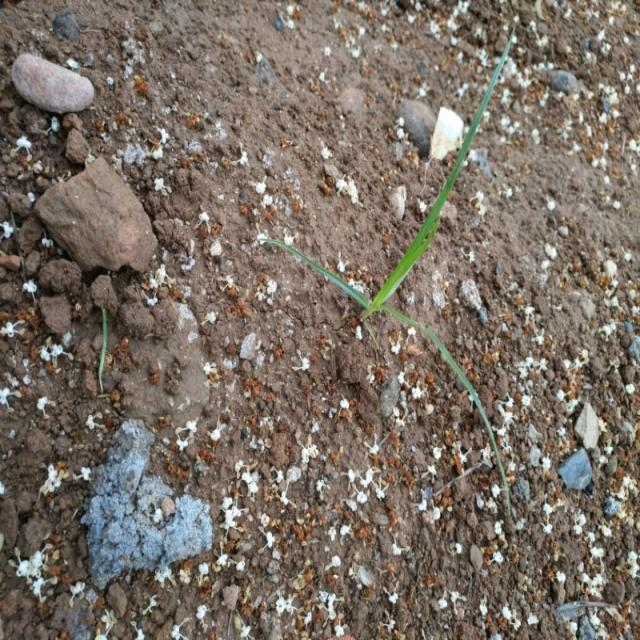sedge: (310, 47, 559, 482)
